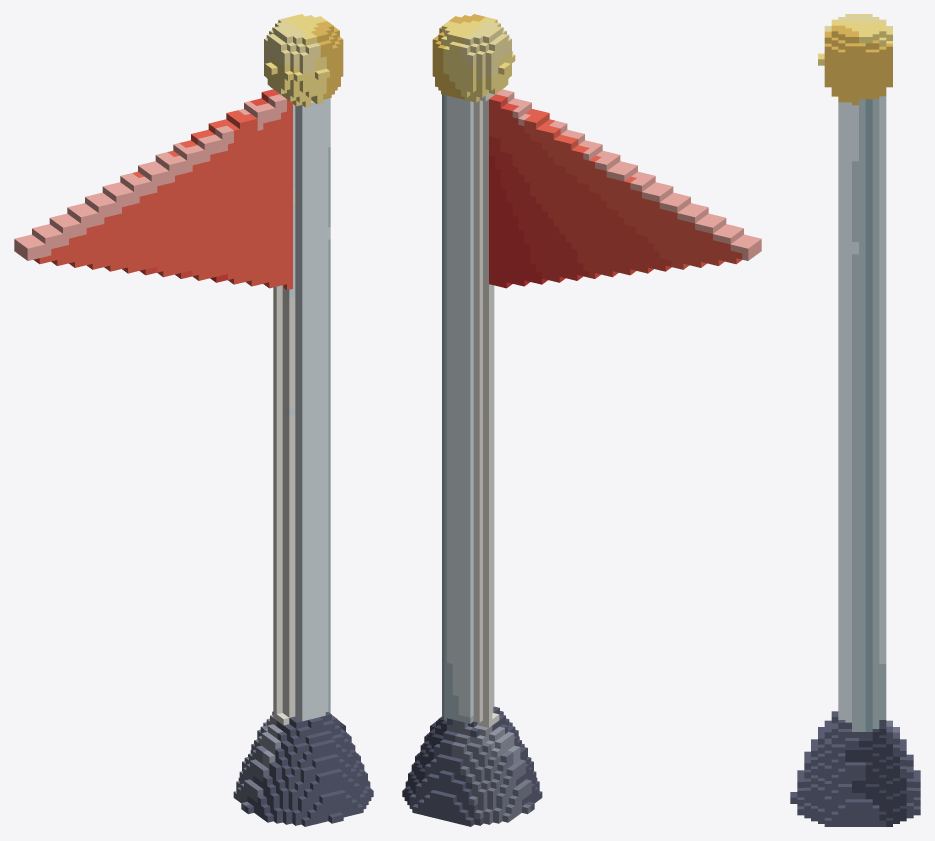
The model's file is flag.FBX.
The picture shows the model from 3 angles, left to right: view 1: azimuth 30°, elevation 25°; view 2: azimuth 150°, elevation 25°; view 3: azimuth 270°, elevation 25°; orthographic projection.
Parts seen in each view (by area): view 1: default003; view 2: default003; view 3: default003.
Part boxes in pixels (bbox=[...]): default003: bbox=[14, 14, 373, 826]; default003: bbox=[402, 14, 761, 826]; default003: bbox=[790, 14, 920, 826].
Bounding box in the file's own units: 989 × 2168 × 330.
